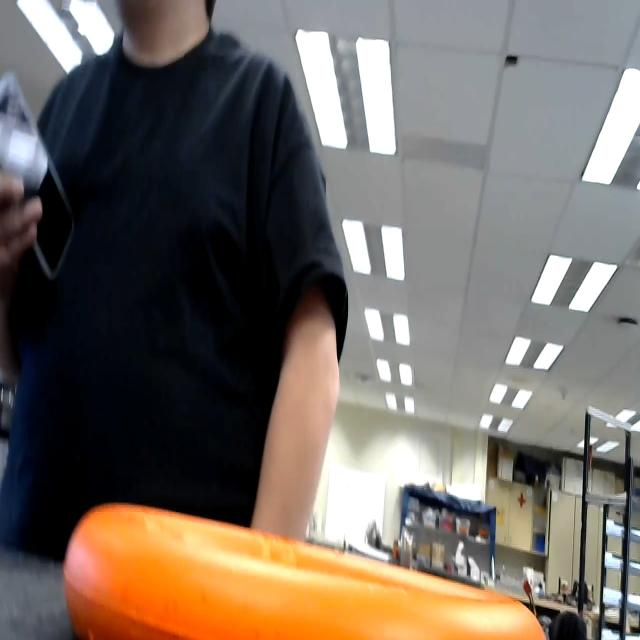note: (53, 494, 549, 640)
